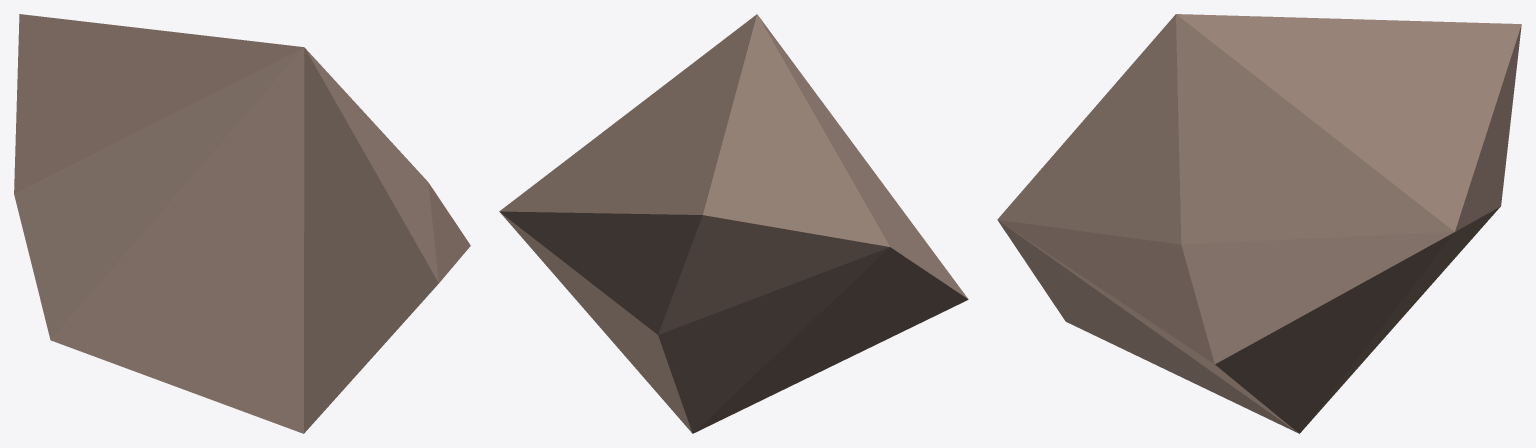
File: RockMed3.fbx
The picture shows the model from 3 angles, left to right: view 1: azimuth 30°, elevation 25°; view 2: azimuth 150°, elevation 25°; view 3: azimuth 270°, elevation 25°; orthographic projection. The views are drawn at different scales.
Parts seen in each view (by area): view 1: RockMed3; view 2: RockMed3; view 3: RockMed3.
Part boxes in pixels (left/top/right/bottom): RockMed3: left=14, top=14, right=470, bottom=433; RockMed3: left=499, top=14, right=968, bottom=433; RockMed3: left=997, top=14, right=1521, bottom=433.
Bounding box in the file's own units: 1.7 × 1.57 × 1.8.
